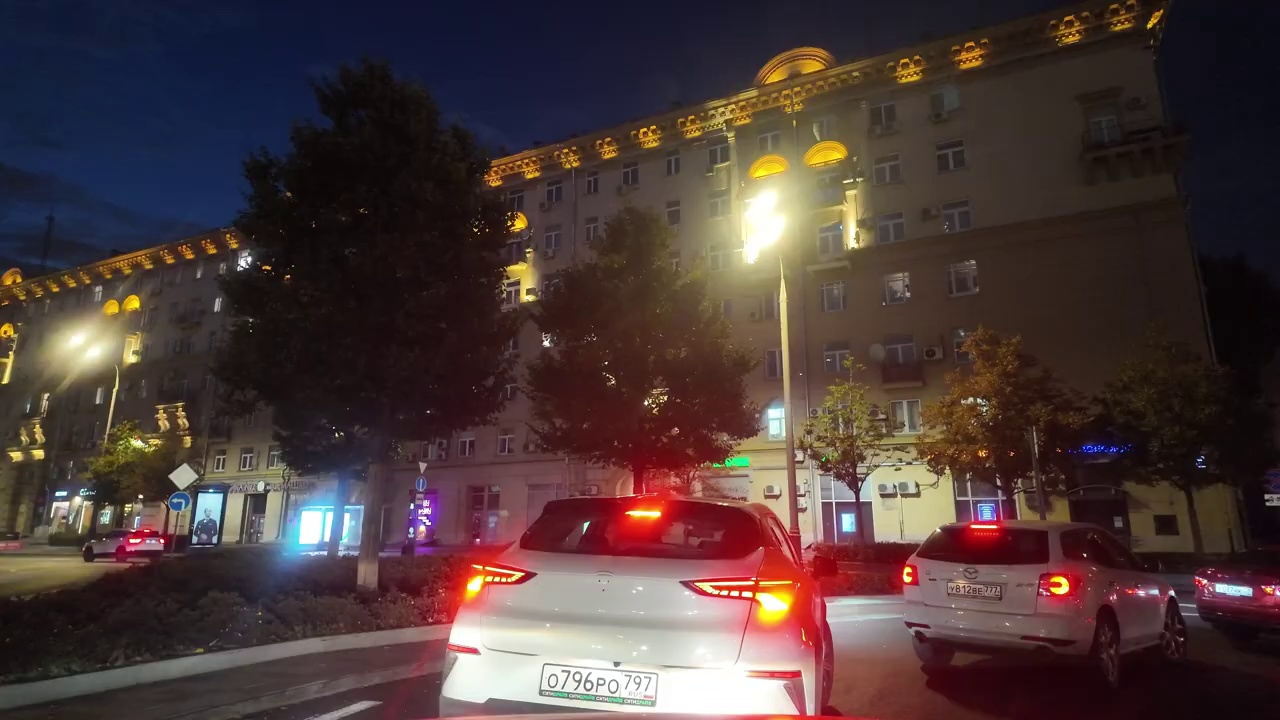acesa: (735, 191, 798, 264)
